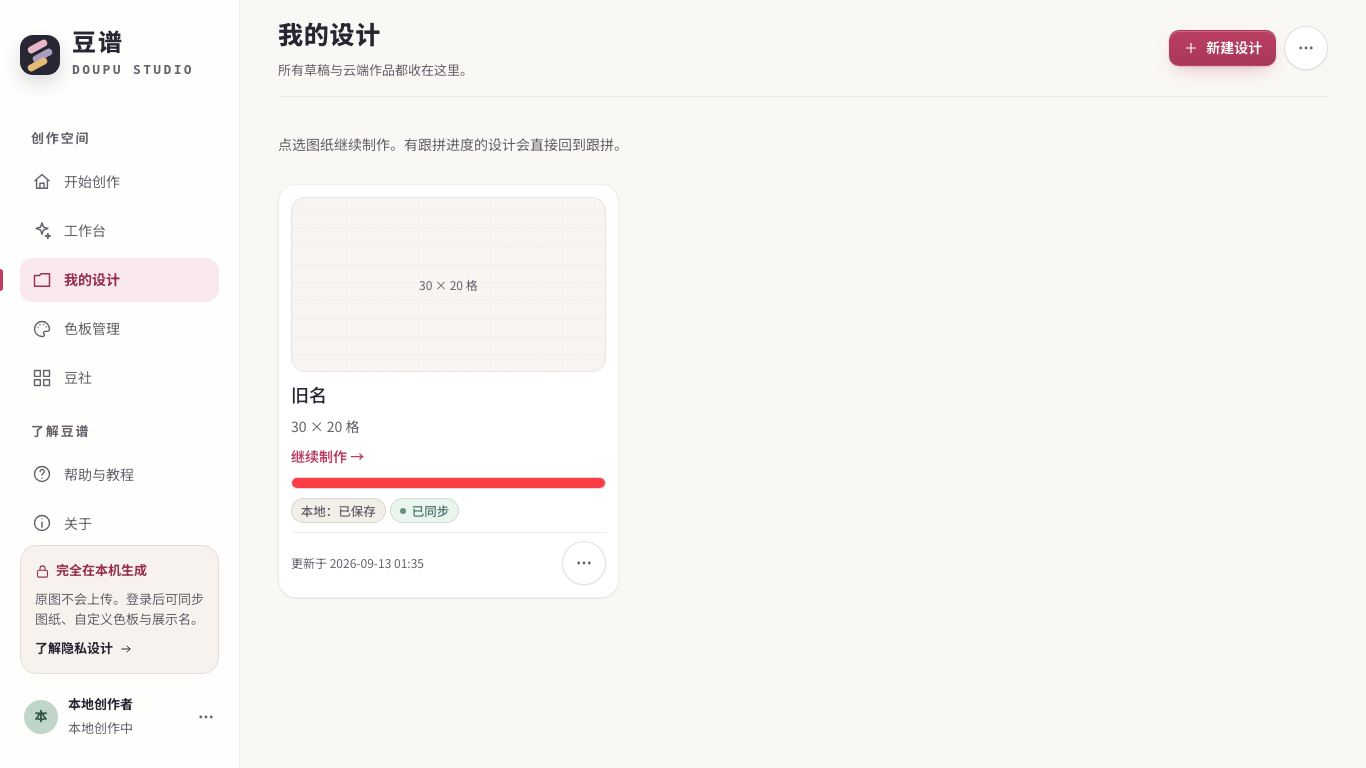
Test: DesignsView › 重命名：更新本地并推送云端
Expected: the text "旧名" is shown, [291, 384, 327, 406]
Click the button named "管理：旧名". click: (584, 563)
box: [562, 541, 606, 585]
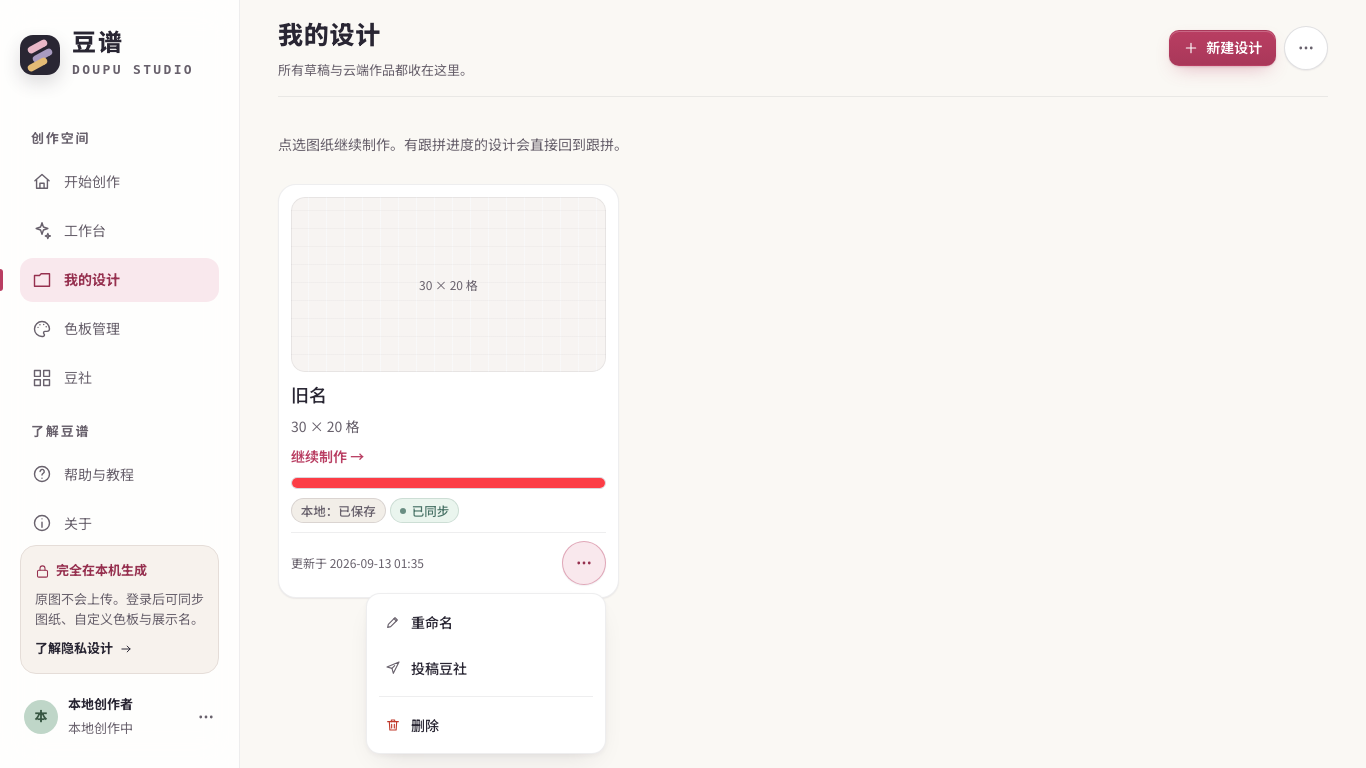
Click the button "重命名". click: (486, 622)
box: [373, 600, 599, 644]
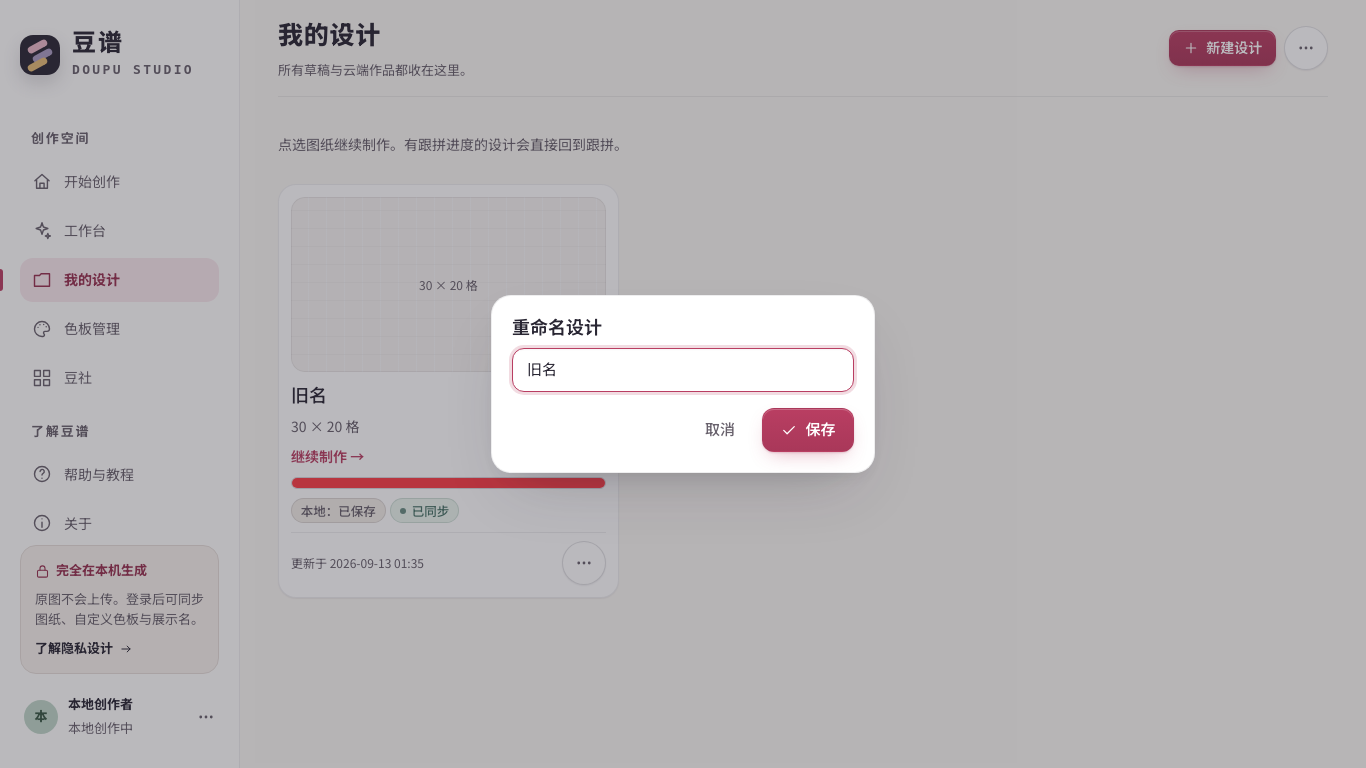
Replace the text in the field named "设计名称" with "新名". click: (683, 370)
box: [512, 348, 854, 392]
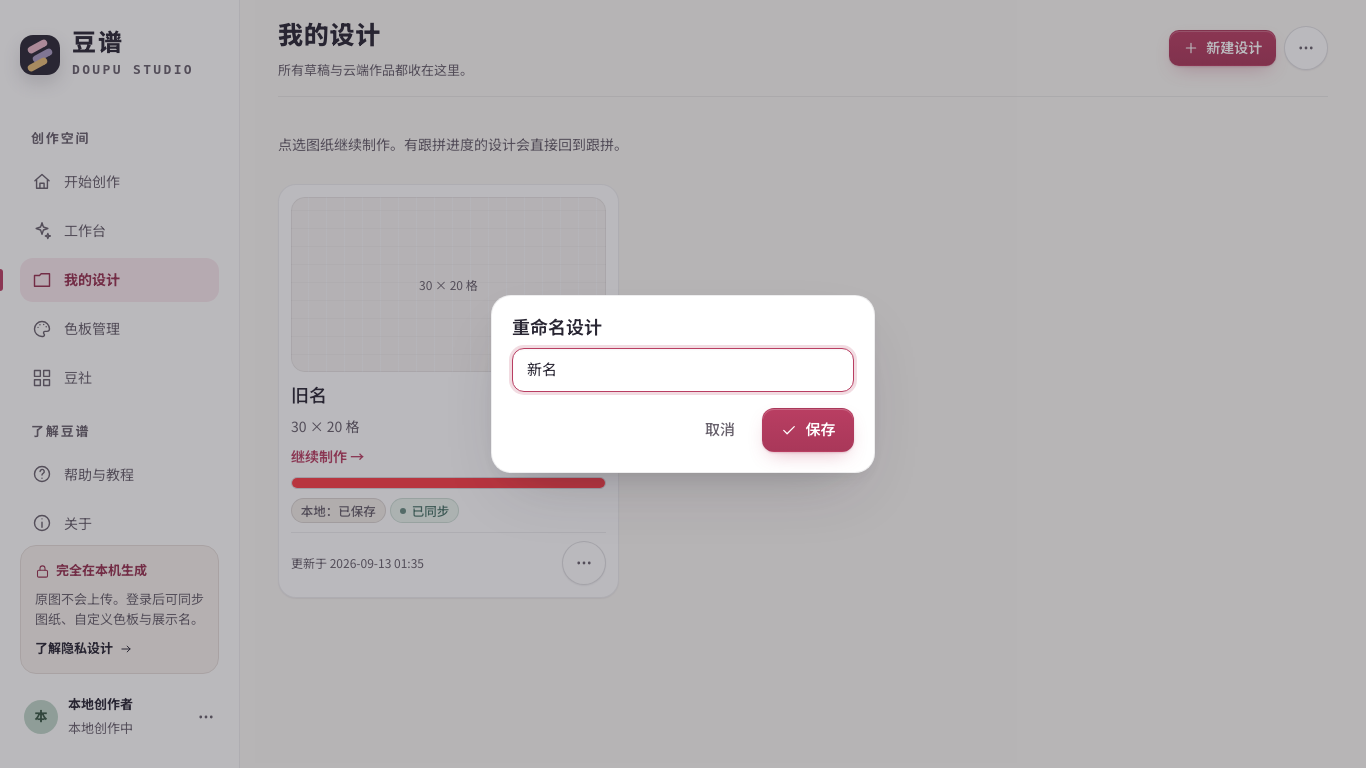
Click the button "保存". click: (808, 430)
box: [762, 408, 854, 452]
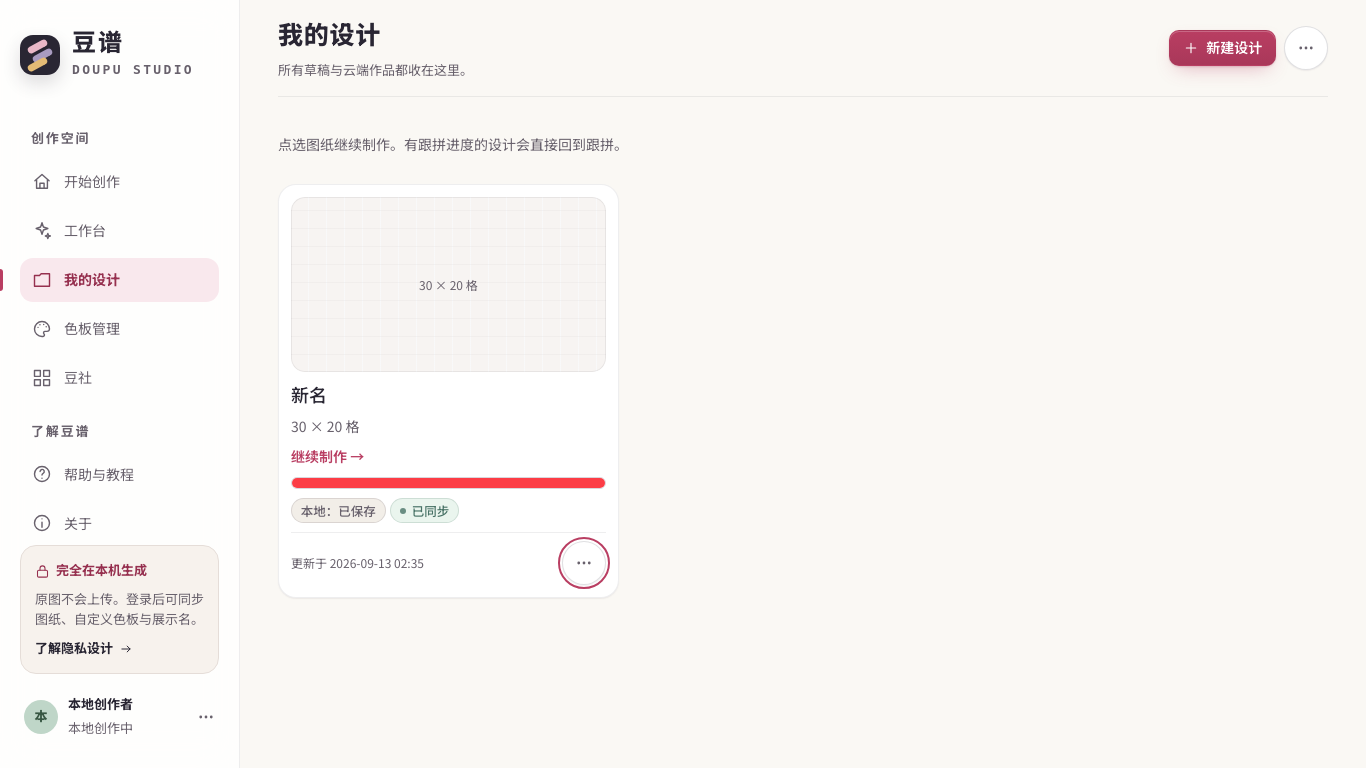
Result: the text "新名" is shown at [291, 384, 327, 406]
